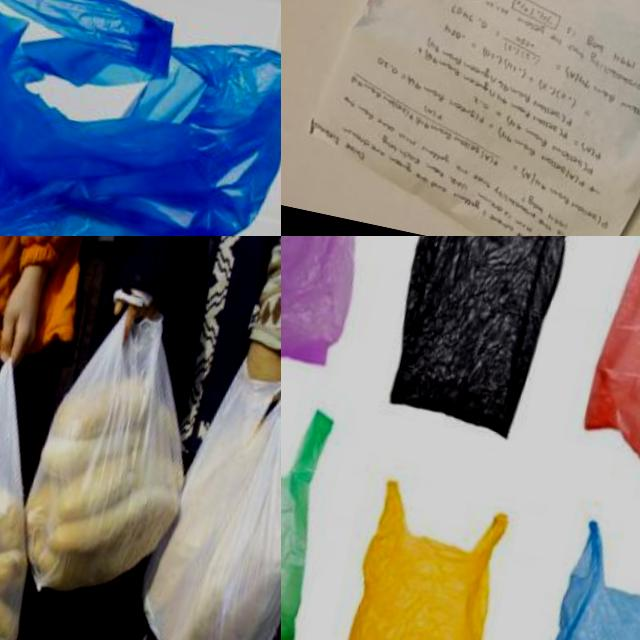papel: (286, 0, 640, 236)
sacola plástica: (0, 277, 220, 640), (0, 0, 281, 236), (363, 236, 595, 445), (109, 360, 281, 640), (310, 430, 530, 640), (0, 346, 76, 640), (561, 236, 640, 511), (510, 494, 640, 640), (281, 236, 401, 394), (281, 372, 346, 640)
